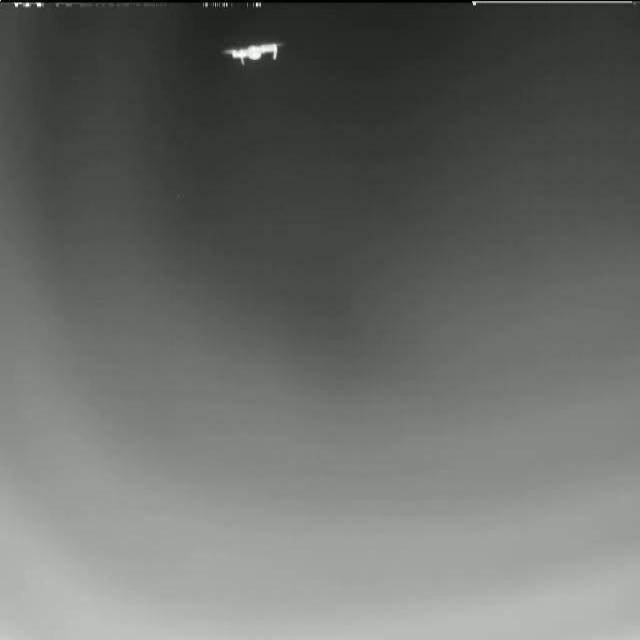DRONE: (215, 40, 288, 64)
